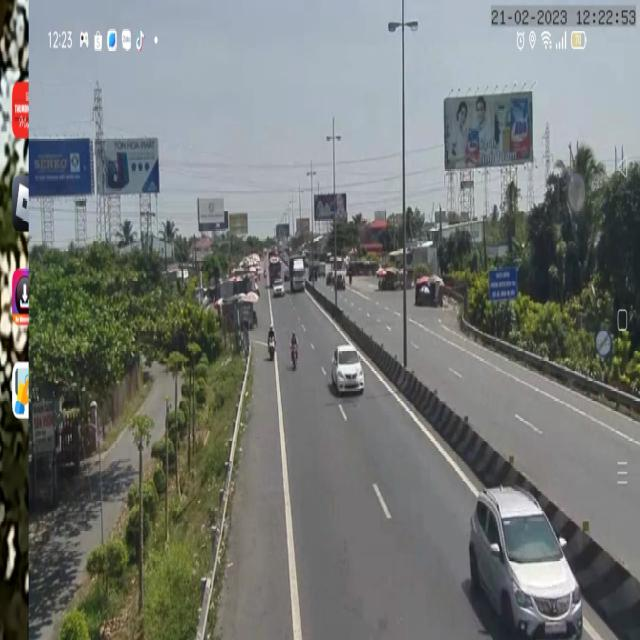car: (465, 484, 583, 638), (330, 346, 366, 396)
motorbike: (289, 328, 301, 372), (266, 322, 276, 362)
truck: (288, 256, 307, 294)
